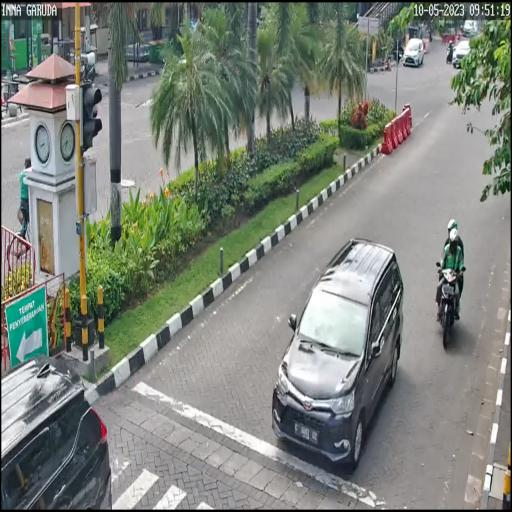mobil: (268, 232, 405, 476)
motor: (436, 256, 466, 354)
